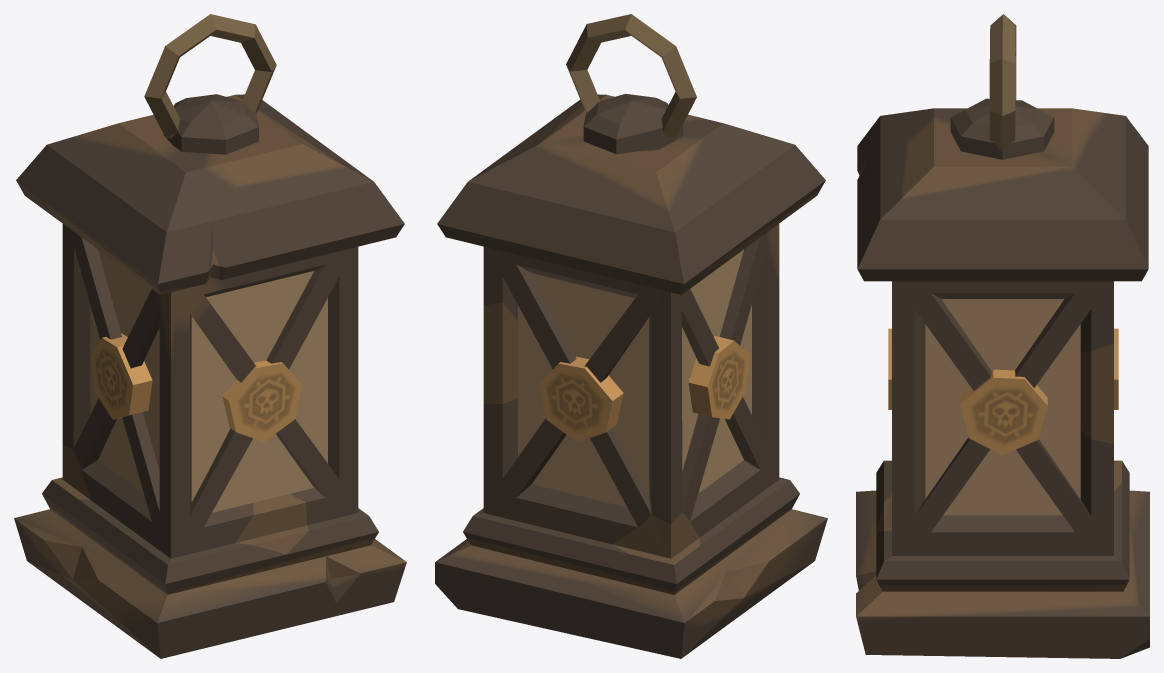
Rendered from SM_Prop_Lantern_01.fbx.
3 renders of one model, left to right at view 1: azimuth 30°, elevation 25°; view 2: azimuth 150°, elevation 25°; view 3: azimuth 270°, elevation 25°, orthographic. The views are drawn at different scales.
Parts seen in each view (by area): view 1: SM_Prop_Lantern_01; view 2: SM_Prop_Lantern_01; view 3: SM_Prop_Lantern_01.
Boxes of the visible parts, box(x1,y1,x2,y2) form: SM_Prop_Lantern_01: box(14, 14, 406, 658); SM_Prop_Lantern_01: box(435, 14, 827, 658); SM_Prop_Lantern_01: box(856, 14, 1149, 658).
Size of the model in its own units: 30.21 by 65.64 by 30.05.
